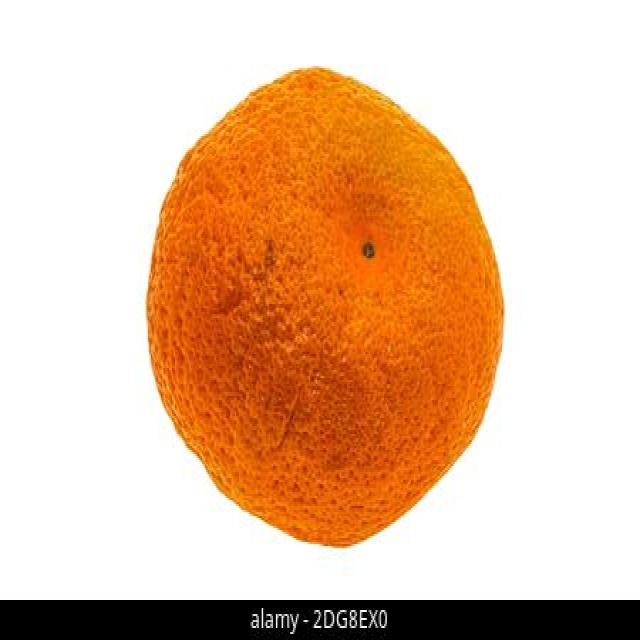overripe: (141, 60, 509, 556)
